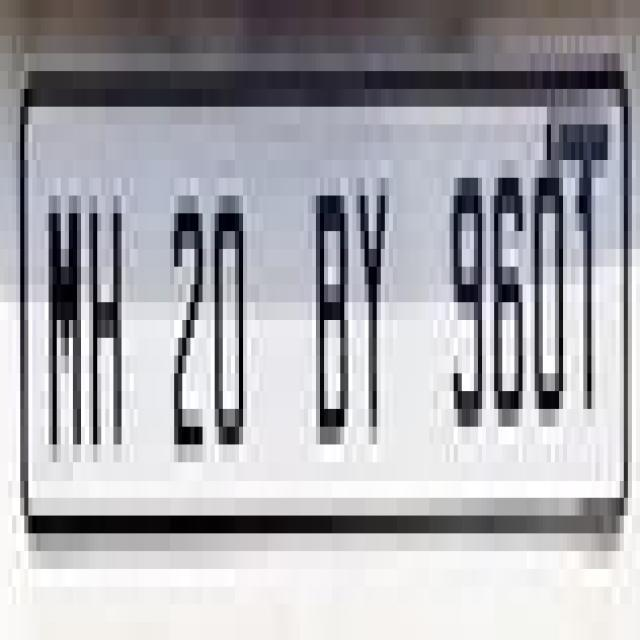0: (210, 172, 250, 484), (529, 170, 569, 422)
1: (571, 136, 604, 428)
6: (490, 150, 529, 414)
9: (441, 142, 488, 438)
B: (306, 178, 360, 464)
H: (86, 158, 132, 460)
M: (41, 148, 87, 487)
Y: (354, 156, 396, 480)
